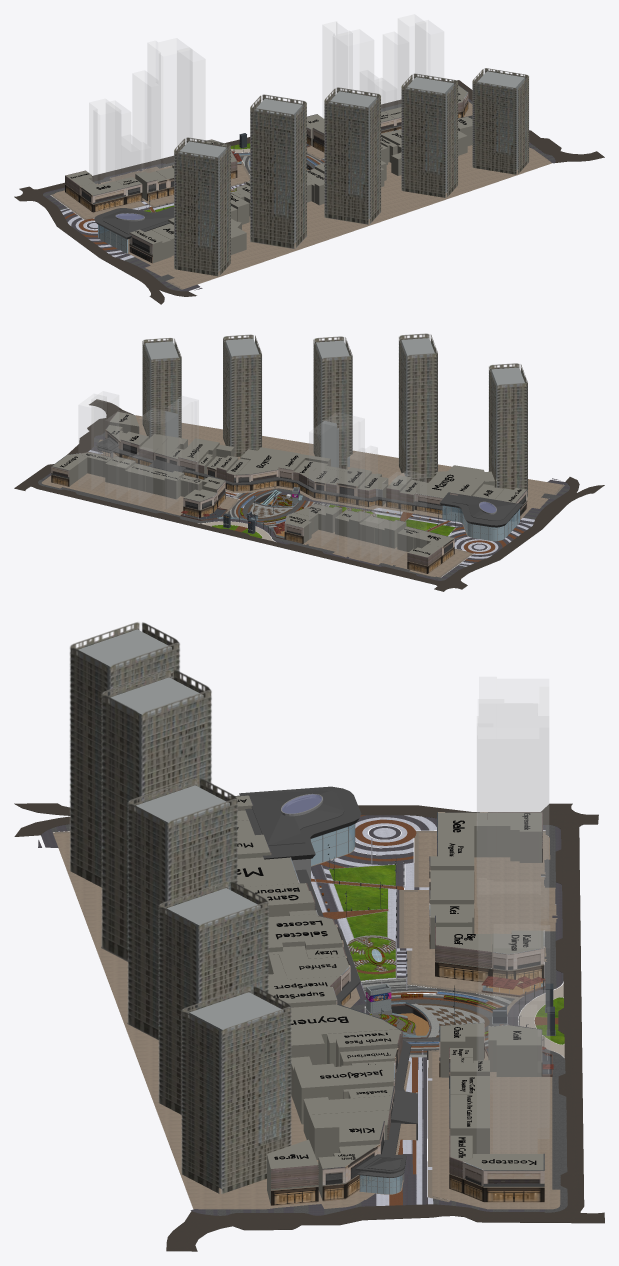
The model's file is MERKEZ_ANKARA_WEB_OPTIMIZED.glb.
The picture shows the model from 3 angles, top to bottom: view 1: azimuth 30°, elevation 25°; view 2: azimuth 150°, elevation 25°; view 3: azimuth 270°, elevation 25°; orthographic projection. The views are drawn at different scales.
Parts seen in each view (by area): view 1: 04 | SAG | PNG.005, 04 | SAG | PNG.004, 04 | SAG | PNG.001, Plane.523, 04 | SAG | PNG.002, 04 | SAG | PNG.003, Plane.358, Plane.558, Plane.363, Plane.357, Plane.359, Plane.355 (+16 smaller); view 2: Plane.558, 04 | SAG | PNG.005, Plane.358, 04 | SAG | PNG.001, 04 | SAG | PNG.004, Plane.523, 04 | SAG | PNG.002, 04 | SAG | PNG.003, Plane.355, Plane.356, Plane.357, Plane.363 (+41 smaller); view 3: 04 | SAG | PNG.003, Plane.558, 04 | SAG | PNG.005, 04 | SAG | PNG.001, Plane.358, 04 | SAG | PNG.002, Plane.357, 04 | SAG | PNG.004, Plane.523, Plane.349, Plane.546, Plane.522 (+53 smaller).
Part boxes in pixels (x1=…): 04 | SAG | PNG.005: x1=250, y1=94, x2=306, y2=248; 04 | SAG | PNG.004: x1=174, y1=137, x2=230, y2=276; 04 | SAG | PNG.001: x1=324, y1=87, x2=381, y2=224; Plane.523: x1=98, y1=145, x2=552, y2=288; 04 | SAG | PNG.002: x1=401, y1=73, x2=457, y2=197; 04 | SAG | PNG.003: x1=472, y1=68, x2=528, y2=174; Plane.358: x1=148, y1=38, x2=191, y2=169; Plane.558: x1=14, y1=80, x2=604, y2=304; Plane.363: x1=89, y1=99, x2=120, y2=184; Plane.357: x1=177, y1=48, x2=204, y2=144; Plane.359: x1=133, y1=71, x2=159, y2=172; Plane.355: x1=335, y1=29, x2=373, y2=95; Plane.558: x1=14, y1=399, x2=604, y2=591; 04 | SAG | PNG.005: x1=398, y1=333, x2=437, y2=482; Plane.358: x1=322, y1=412, x2=364, y2=552; 04 | SAG | PNG.001: x1=313, y1=336, x2=352, y2=469; 04 | SAG | PNG.004: x1=489, y1=363, x2=527, y2=497; Plane.523: x1=99, y1=415, x2=562, y2=541; 04 | SAG | PNG.002: x1=223, y1=334, x2=261, y2=456; 04 | SAG | PNG.003: x1=142, y1=338, x2=181, y2=438; Plane.355: x1=139, y1=408, x2=177, y2=503; Plane.356: x1=166, y1=396, x2=198, y2=508; Plane.357: x1=309, y1=421, x2=336, y2=543; Plane.363: x1=392, y1=470, x2=426, y2=562; 04 | SAG | PNG.003: x1=181, y1=986, x2=291, y2=1193; Plane.558: x1=14, y1=803, x2=604, y2=1251; 04 | SAG | PNG.005: x1=101, y1=669, x2=211, y2=961; 04 | SAG | PNG.001: x1=127, y1=778, x2=237, y2=1039; Plane.358: x1=479, y1=677, x2=548, y2=920; 04 | SAG | PNG.002: x1=158, y1=881, x2=268, y2=1114; Plane.357: x1=478, y1=728, x2=538, y2=933; 04 | SAG | PNG.004: x1=69, y1=622, x2=179, y2=887; Plane.523: x1=53, y1=828, x2=416, y2=1209; Plane.349: x1=477, y1=1005, x2=536, y2=1153; Plane.546: x1=432, y1=1050, x2=560, y2=1209; Plane.522: x1=404, y1=832, x2=557, y2=961.
Bounding box in the file's own units: 319 × 94.34 × 178.
160 materials, 113 textured.
